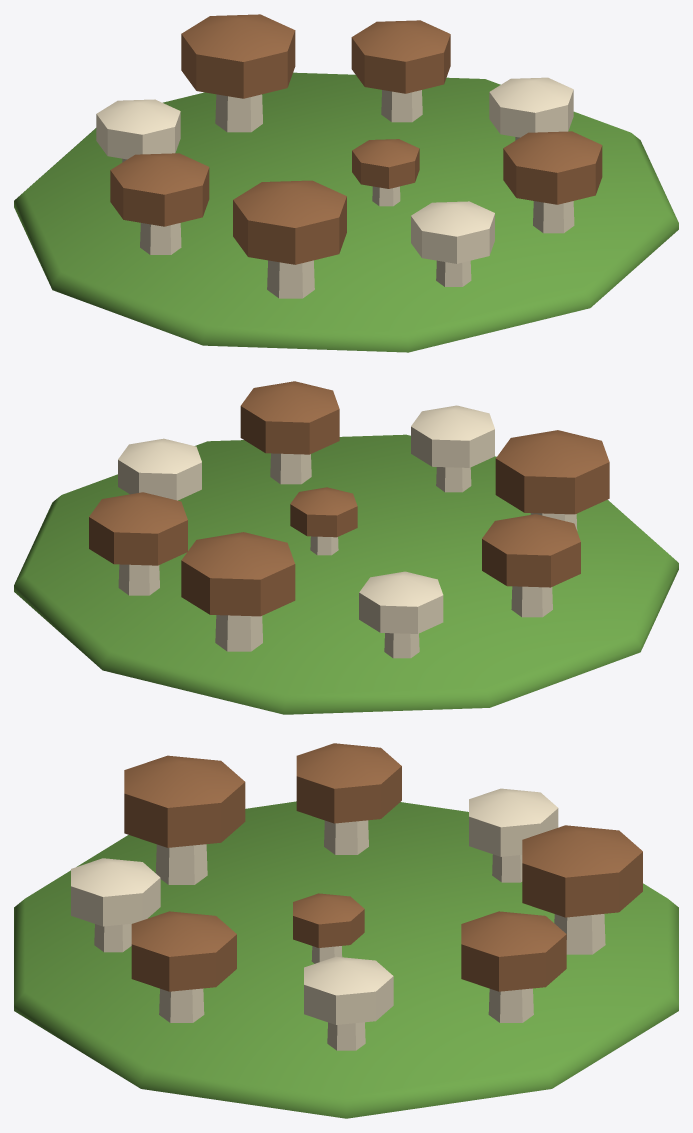
Rendered from mushroom_patch.glb.
3 views of the same model, one above another, from view 1: azimuth 30°, elevation 25°; view 2: azimuth 150°, elevation 25°; view 3: azimuth 270°, elevation 25° (orthographic). The views are drawn at different scales.
Visible parts, largest first — view 1: mushroom_patch; view 2: mushroom_patch; view 3: mushroom_patch.
Part boxes in pixels (x1,y1,x2,y2): mushroom_patch: (14, 14, 678, 352); mushroom_patch: (14, 381, 678, 714); mushroom_patch: (14, 743, 678, 1118).
Bounding box in the file's own units: 1.9 × 0.3729 × 1.71.
Materials: 1 (1 with a texture image).
